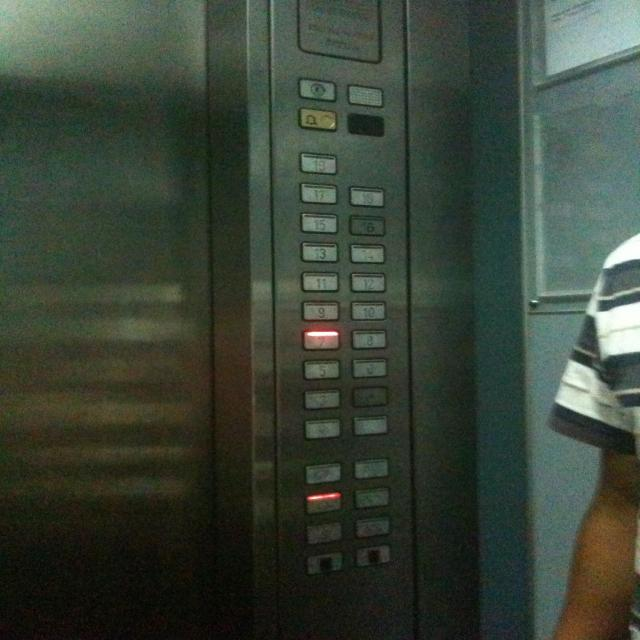10: (349, 300, 388, 321)
11: (299, 270, 340, 294)
12: (348, 272, 386, 292)
13: (299, 240, 339, 262)
14: (349, 243, 385, 264)
15: (299, 212, 339, 235)
16: (348, 214, 386, 237)
17: (298, 182, 338, 206)
18: (348, 185, 384, 207)
19: (300, 152, 337, 174)
3: (302, 388, 341, 410)
5: (301, 358, 341, 381)
6: (349, 357, 390, 378)
7: (301, 329, 341, 351)
8: (350, 329, 387, 349)
9: (300, 300, 340, 322)
S: (306, 522, 342, 544)
alarm: (297, 107, 338, 132)
blur: (301, 417, 343, 440), (302, 492, 342, 516), (352, 486, 391, 509), (304, 552, 343, 575), (350, 386, 390, 408), (304, 462, 342, 485), (353, 545, 391, 567), (352, 458, 390, 479), (354, 516, 389, 538)
empty: (346, 112, 384, 137), (350, 414, 388, 436)
keyhole: (296, 77, 337, 103)
speaker: (346, 82, 385, 108)
